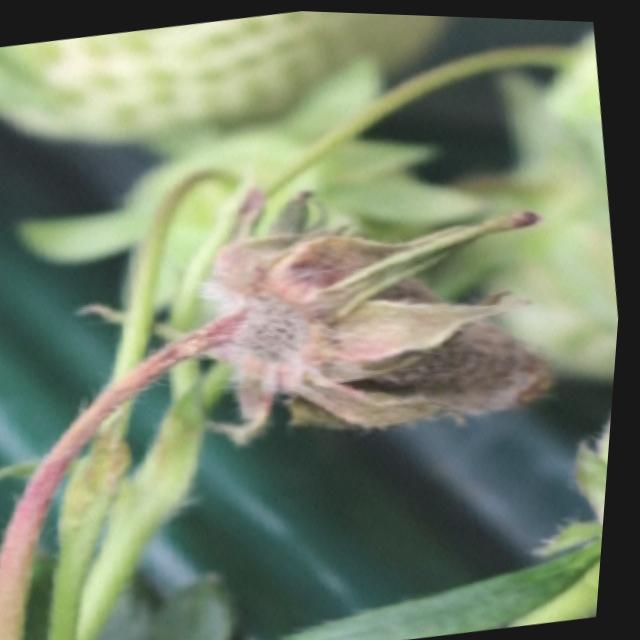Gray Mold: (136, 181, 569, 446)
